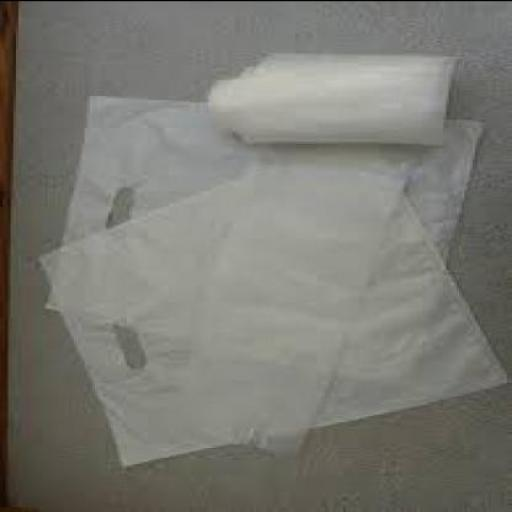plastic: (37, 138, 509, 463), (39, 90, 480, 384), (206, 48, 454, 142)
